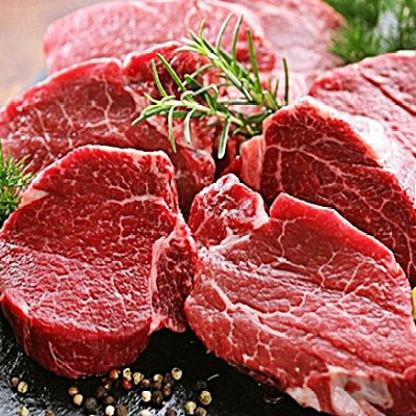beef: (17, 3, 416, 407)
